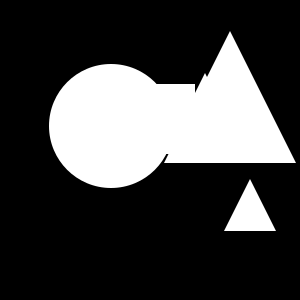circle: (125, 84, 195, 154)
rectangle: (49, 64, 173, 188)
triangle: (164, 31, 296, 163), (167, 73, 243, 149), (224, 179, 276, 231)
